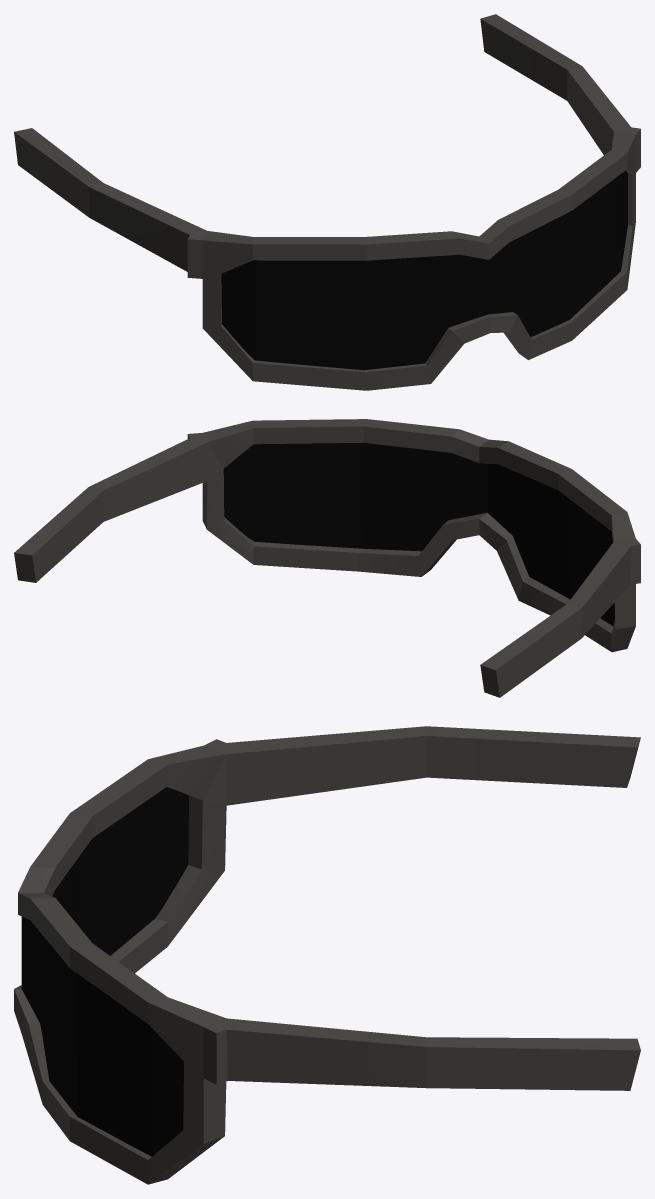
Rendered from Glasses_04_SM.FBX.
3 renders of one model, top to bottom at view 1: azimuth 30°, elevation 25°; view 2: azimuth 150°, elevation 25°; view 3: azimuth 270°, elevation 25°, orthographic. The views are drawn at different scales.
Visible parts, largest first — view 1: Glasses_04_SM; view 2: Glasses_04_SM; view 3: Glasses_04_SM.
Boxes of the visible parts, bbox=[...] form: Glasses_04_SM: bbox=[14, 14, 640, 390]; Glasses_04_SM: bbox=[14, 419, 640, 697]; Glasses_04_SM: bbox=[14, 726, 640, 1184].
Size of what is drawn, in the model's own units: 19.62 by 16.2 by 5.56.
